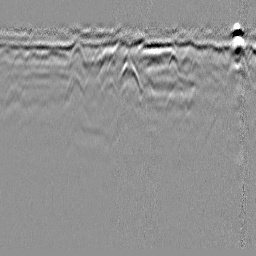cavity: (116, 57, 143, 92)
